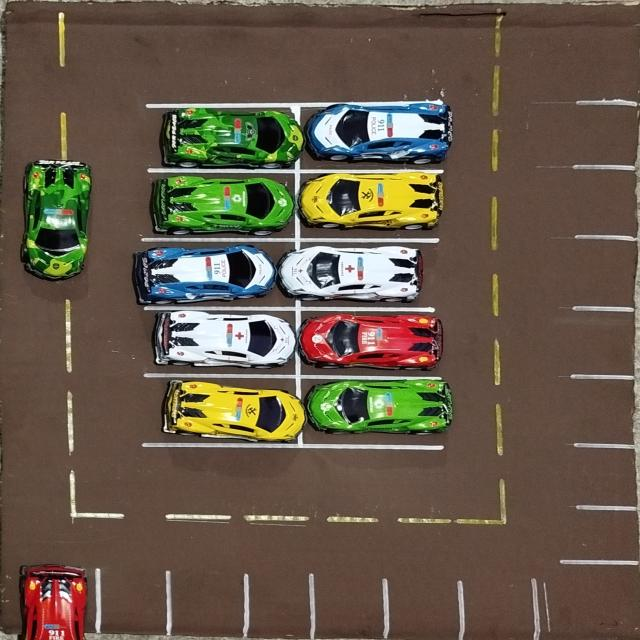libre: (166, 575, 244, 640), (94, 573, 167, 640), (573, 307, 640, 378), (384, 579, 460, 640), (311, 579, 387, 640), (573, 377, 640, 446), (575, 236, 640, 306), (576, 168, 640, 238), (462, 580, 535, 640), (573, 443, 640, 508), (243, 577, 311, 640), (576, 102, 640, 168), (573, 506, 640, 560)
ocupado: (144, 306, 296, 376), (147, 377, 301, 446), (147, 169, 297, 239), (299, 376, 449, 446), (145, 240, 298, 308), (296, 306, 441, 377), (296, 168, 438, 240), (147, 104, 296, 170), (296, 239, 436, 308), (297, 102, 443, 168), (0, 563, 96, 640)
